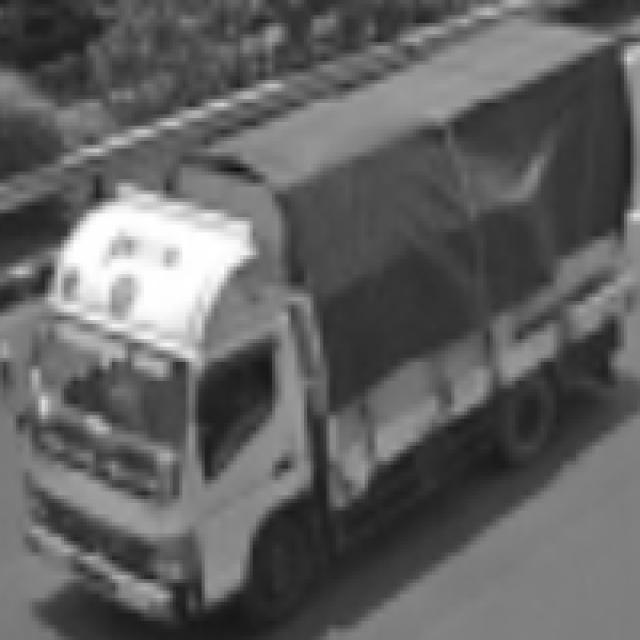truck: (1, 182, 343, 639)
